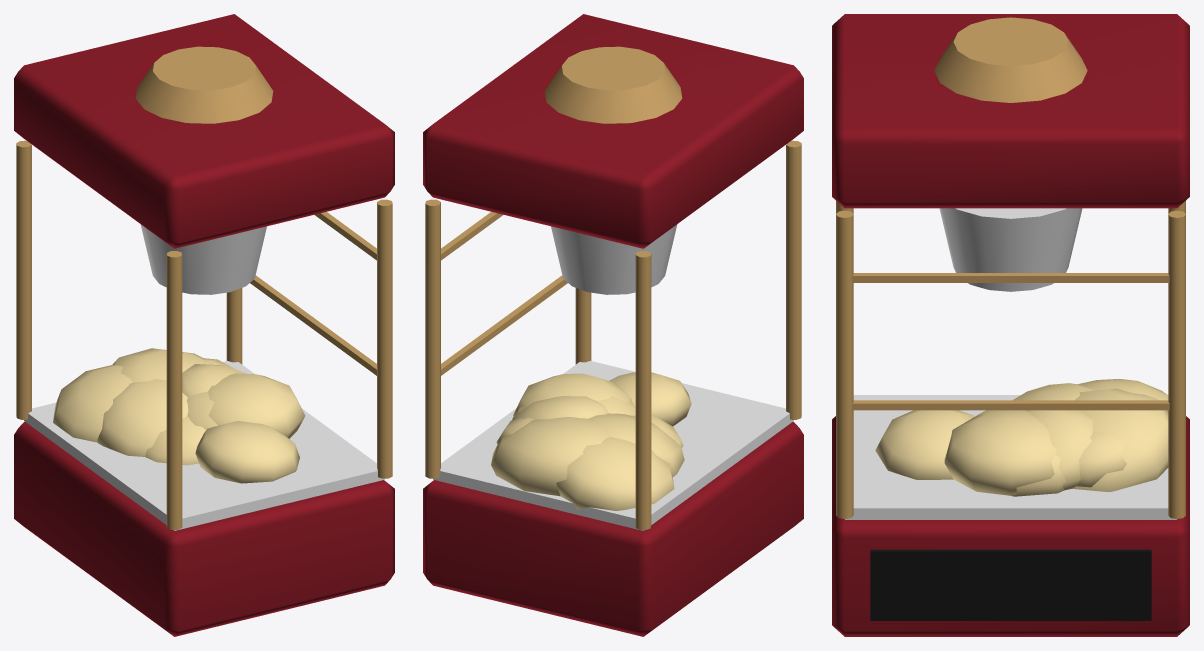
File: popcorn_machine.glb
3 views of the same model, side by side, from view 1: azimuth 30°, elevation 25°; view 2: azimuth 150°, elevation 25°; view 3: azimuth 270°, elevation 25° (orthographic). The views are drawn at different scales.
Parts seen in each view (by area): view 1: Mesh_Header, Mesh_Base, Mesh_Bin, Mesh_Crest, Mesh_Kettle, Mesh_Heap2, Mesh_Post-11, Mesh_Post11, Mesh_Post-1-1, Mesh_Heap4, Mesh_Heap6, Mesh_Heap8 (+7 smaller); view 2: Mesh_Header, Mesh_Base, Mesh_Bin, Mesh_Crest, Mesh_Heap5, Mesh_Heap8, Mesh_Kettle, Mesh_Post-1-1, Mesh_Post1-1, Mesh_Post-11, Mesh_Heap4, Mesh_Heap2 (+5 smaller); view 3: Mesh_Header, Mesh_Base, Mesh_BaseDoor, Mesh_Bin, Mesh_Crest, Mesh_Kettle, Mesh_Heap4, Mesh_Post1-1, Mesh_Post11, Mesh_Heap5, Mesh_Heap2, Mesh_Bar0 (+6 smaller).
Part boxes in pixels (<box>): Mesh_Header: <box>14,14,394,248</box>; Mesh_Base: <box>14,422,394,636</box>; Mesh_Bin: <box>24,361,384,530</box>; Mesh_Crest: <box>135,46,273,123</box>; Mesh_Kettle: <box>140,224,266,294</box>; Mesh_Heap2: <box>195,421,299,483</box>; Mesh_Post-11: <box>166,251,182,529</box>; Mesh_Post11: <box>377,199,392,478</box>; Mesh_Post-1-1: <box>16,140,31,419</box>; Mesh_Heap4: <box>208,373,305,438</box>; Mesh_Heap6: <box>97,379,188,456</box>; Mesh_Heap8: <box>53,365,132,442</box>; Mesh_Header: <box>423,14,803,248</box>; Mesh_Base: <box>423,422,803,636</box>; Mesh_Bin: <box>433,361,793,530</box>; Mesh_Crest: <box>544,46,682,123</box>; Mesh_Heap5: <box>491,417,610,496</box>; Mesh_Heap8: <box>556,437,674,510</box>; Mesh_Kettle: <box>551,224,677,294</box>; Mesh_Post-1-1: <box>635,251,651,529</box>; Mesh_Post1-1: <box>425,199,440,478</box>; Mesh_Post-11: <box>786,140,801,419</box>; Mesh_Heap4: <box>513,373,631,415</box>; Mesh_Heap2: <box>609,372,691,426</box>; Mesh_Header: <box>832,14,1189,208</box>; Mesh_Base: <box>832,416,1189,636</box>; Mesh_BaseDoor: <box>870,549,1151,620</box>; Mesh_Bin: <box>845,395,1176,519</box>; Mesh_Crest: <box>934,17,1087,102</box>; Mesh_Kettle: <box>939,208,1082,291</box>; Mesh_Heap4: <box>944,410,1056,495</box>; Mesh_Post1-1: <box>1168,210,1185,518</box>; Mesh_Post11: <box>836,210,853,518</box>; Mesh_Heap5: <box>1072,388,1168,491</box>; Mesh_Heap2: <box>875,410,975,479</box>; Mesh_Bar0: <box>852,400,1169,410</box>.
Bounding box in the file's own units: 0.467 × 0.93 × 0.56.
